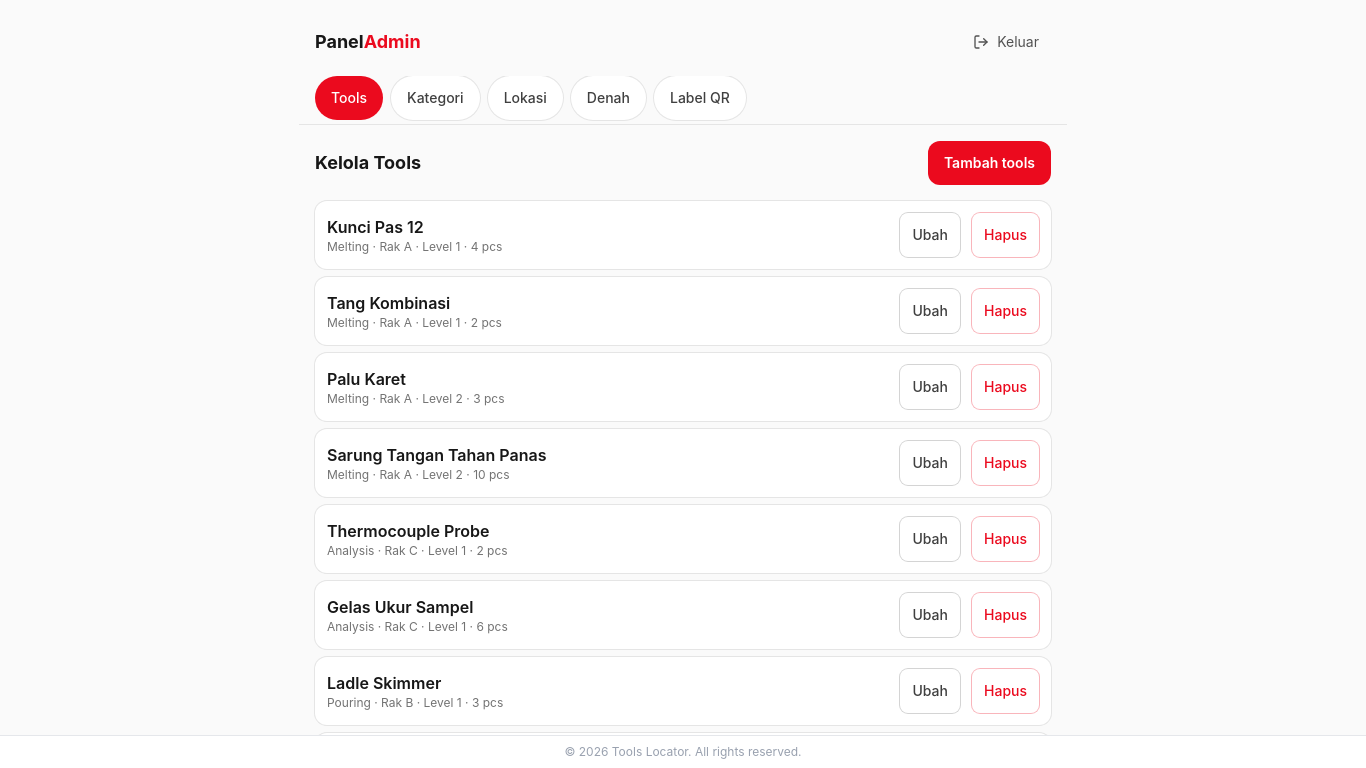
it: menolak simpan saat kategori belum dipilih
Expected: the text "Kunci Pas 12" is shown, [327,217,424,237]
Click the button "Tambah tools" at (989, 163), box [928,141,1051,185]
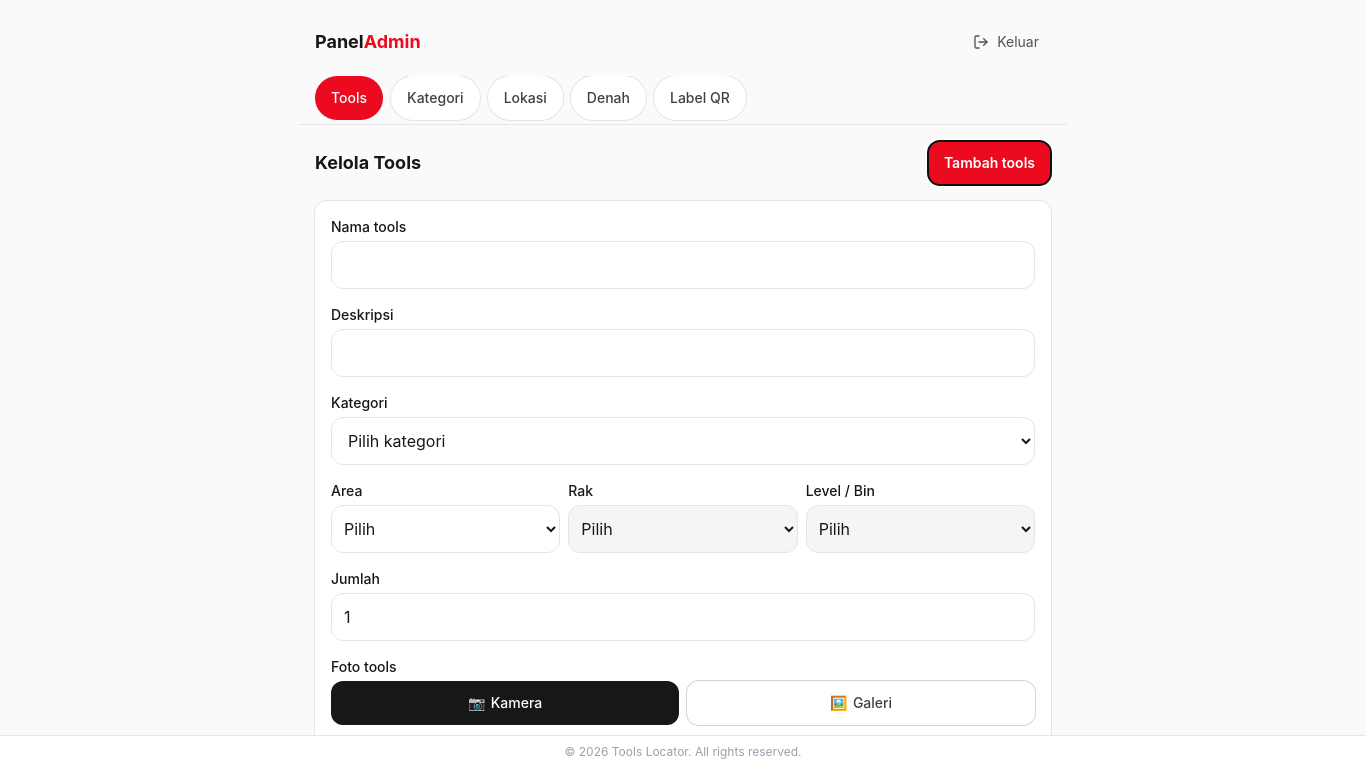
Type "Kuas Coating" into the field labelled "Nama tools" at (683, 265), box [331,241,1035,289]
(page scrolled)
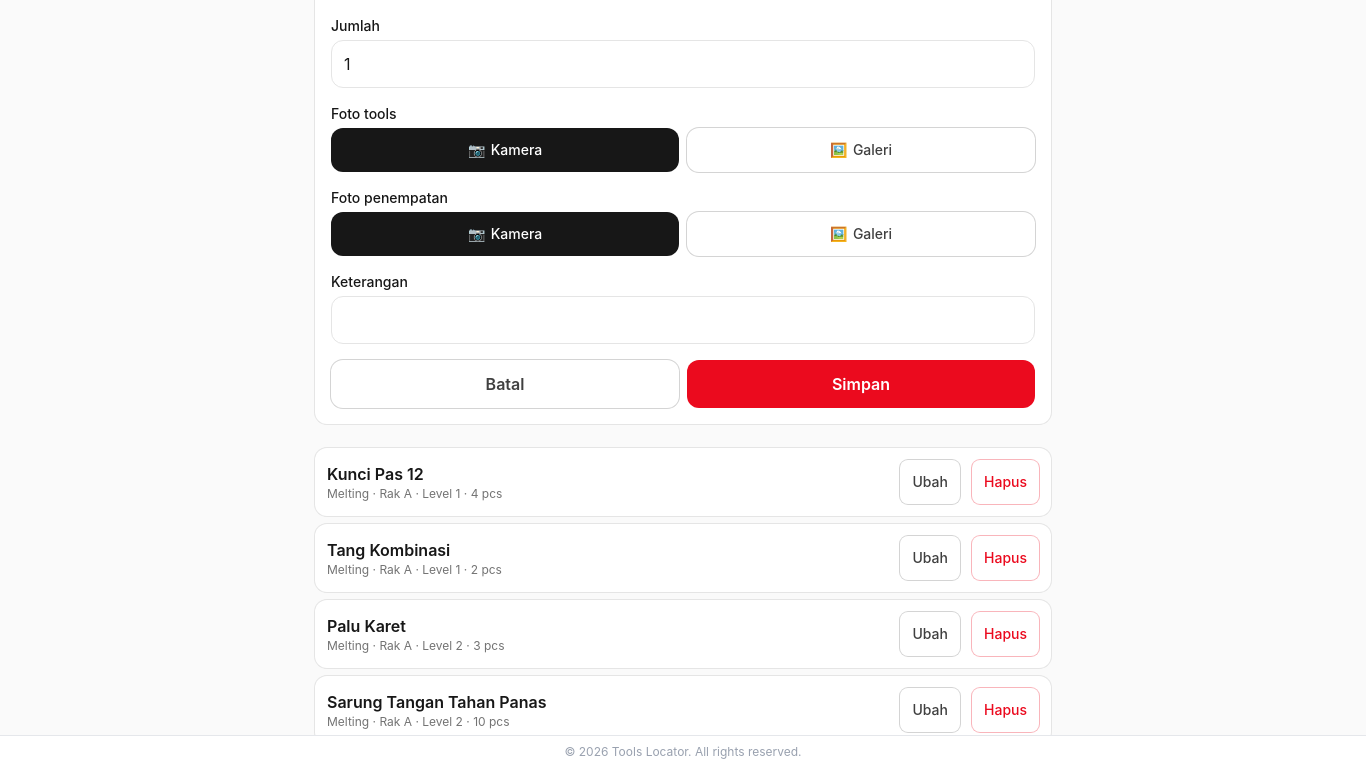
Click the button "Simpan" at (861, 384), box [687,360,1035,408]
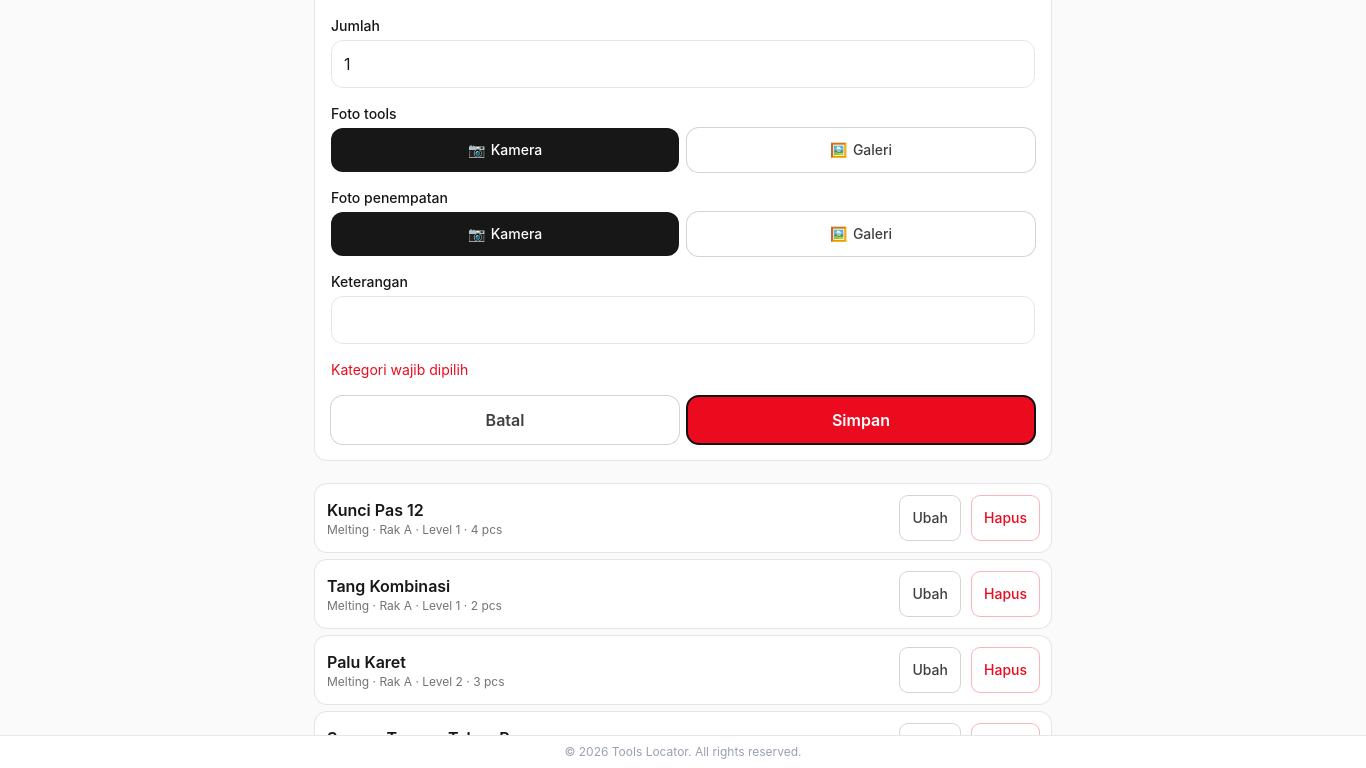
Expected: the text "Kategori wajib dipilih" is shown, [331,361,468,378]
